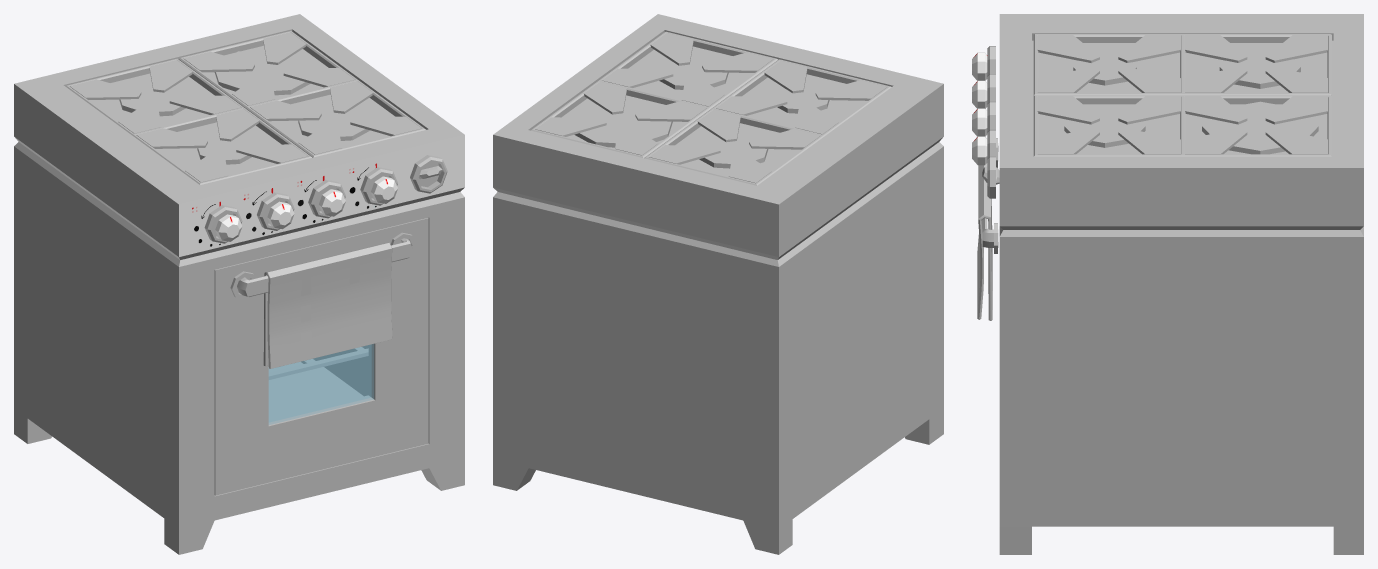
Rendered from stove.fbx.
3 views of the same model, side by side, from view 1: azimuth 30°, elevation 25°; view 2: azimuth 150°, elevation 25°; view 3: azimuth 270°, elevation 25° (orthographic). The views are drawn at different scales.
Visible parts, largest first — view 1: Body, DoorBody, Black, DoorCloth, Marks, Dials, DoorHandle, Dial1, Dial2, Dial3, Dial4; view 2: Body, Black; view 3: Body, Black, DoorCloth, Dials, DoorHandle.
Part boxes in pixels (bbox=[...]): Body: bbox=[14, 14, 464, 554]; DoorBody: bbox=[214, 218, 428, 495]; Black: bbox=[65, 31, 425, 184]; DoorCloth: bbox=[263, 242, 392, 368]; Marks: bbox=[179, 135, 464, 256]; Dials: bbox=[204, 155, 447, 243]; DoorHandle: bbox=[230, 232, 416, 299]; Dial1: bbox=[215, 214, 242, 241]; Dial2: bbox=[267, 201, 294, 229]; Dial3: bbox=[318, 189, 345, 216]; Dial4: bbox=[371, 176, 397, 203]; Body: bbox=[493, 14, 943, 554]; Black: bbox=[531, 31, 891, 185]; Body: bbox=[999, 14, 1363, 554]; Black: bbox=[1033, 34, 1331, 156]; DoorCloth: bbox=[977, 163, 992, 320]; Dials: bbox=[987, 46, 995, 198]; DoorHandle: bbox=[982, 138, 998, 253].
Size of the model in its own units: 83.57 by 97.87 by 89.84.
